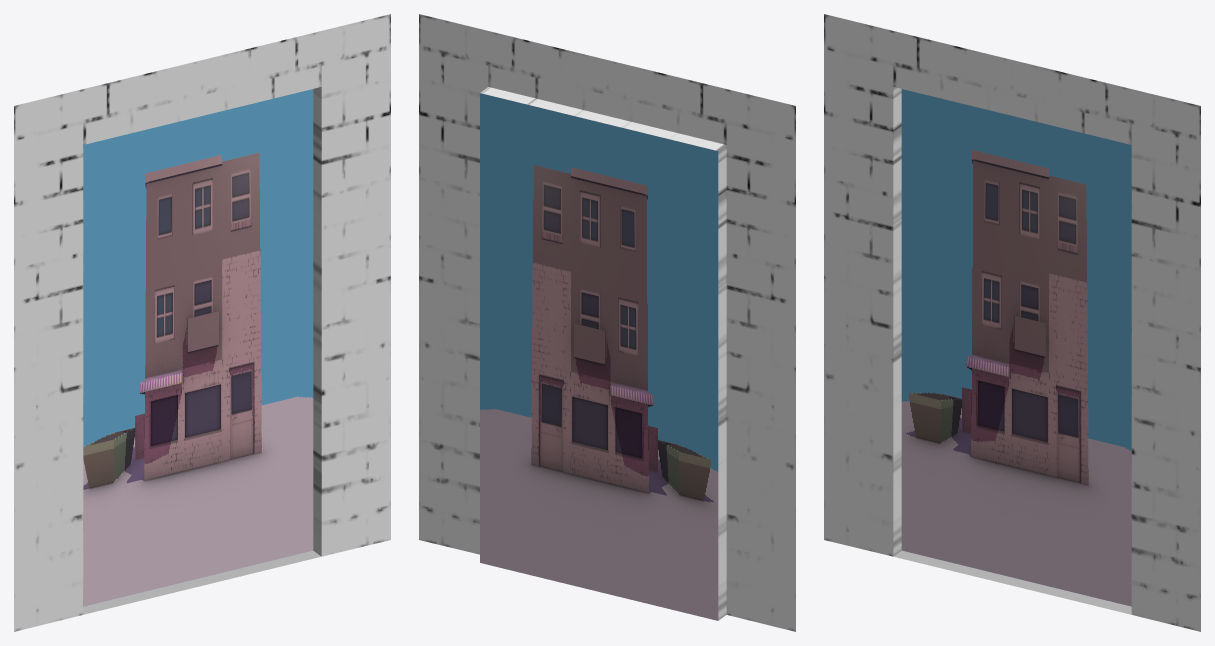
The model's file is Door.fbx.
3 renders of one model, left to right at view 1: azimuth 30°, elevation 25°; view 2: azimuth 150°, elevation 25°; view 3: azimuth 330°, elevation 25°, orthographic.
Parts seen in each view (by area): view 1: Plane.001; view 2: Plane.001; view 3: Plane.001.
Boxes of the visible parts, left/top/right/bottom form: Plane.001: left=14, top=14, right=390, bottom=631; Plane.001: left=419, top=14, right=795, bottom=631; Plane.001: left=824, top=14, right=1200, bottom=631.
Size of the model in its own units: 150 by 200 by 5.79.
